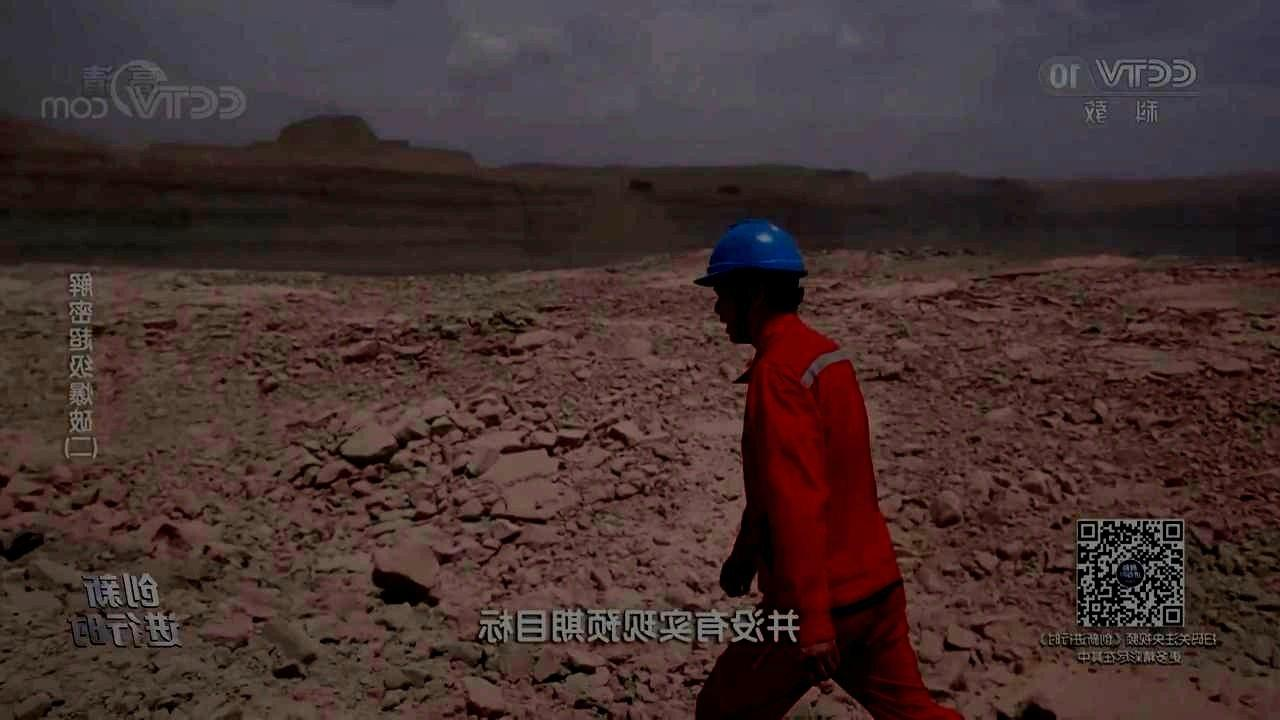helmet: (692, 219, 809, 344)
